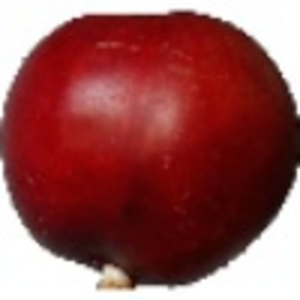nectarina: (1, 9, 300, 297)
